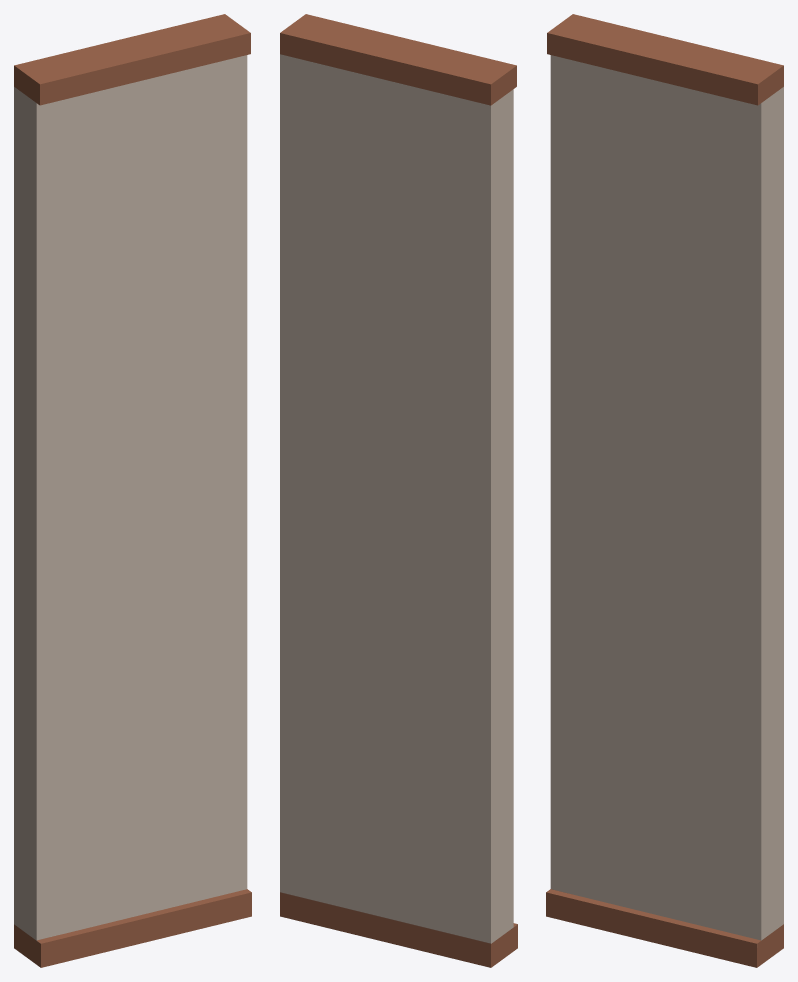
The model's file is wall.fbx.
3 views of the same model, side by side, from view 1: azimuth 30°, elevation 25°; view 2: azimuth 150°, elevation 25°; view 3: azimuth 330°, elevation 25° (orthographic).
Visible parts, largest first — view 1: wall_taller; view 2: wall_taller; view 3: wall_taller.
Boxes of the visible parts, <box> form: wall_taller: <box>14,14,251,967</box>; wall_taller: <box>280,14,517,967</box>; wall_taller: <box>546,14,783,967</box>.
Size of the model in its own units: 1 by 4 by 0.2208.
